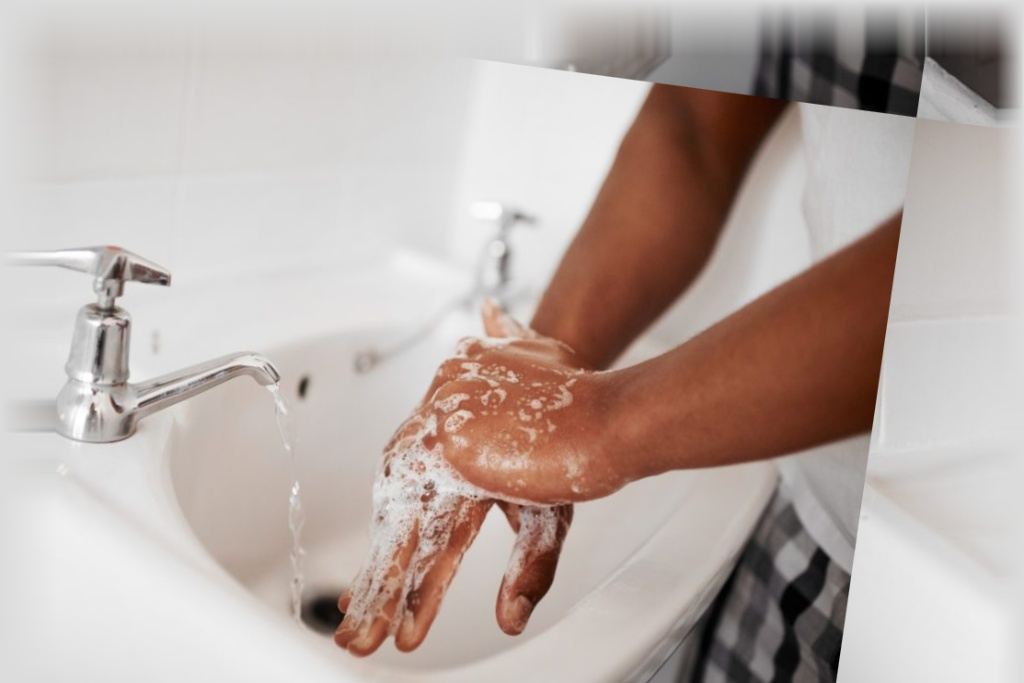washing hand: (0, 97, 703, 682)
